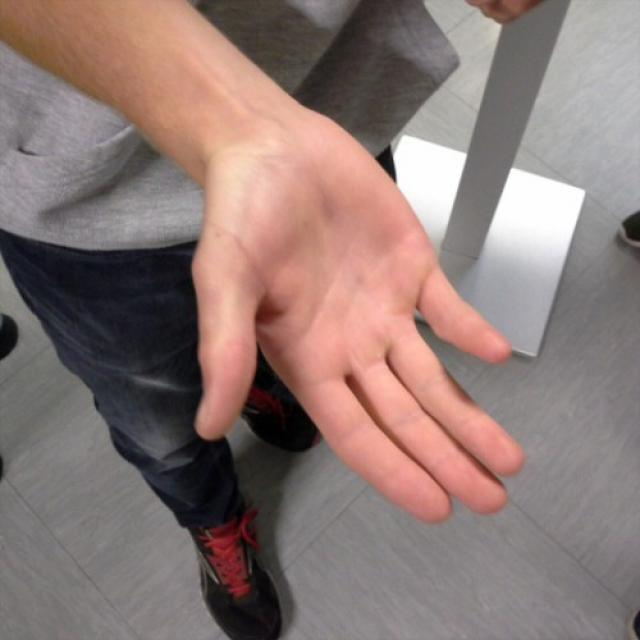paper: (192, 111, 524, 523)
